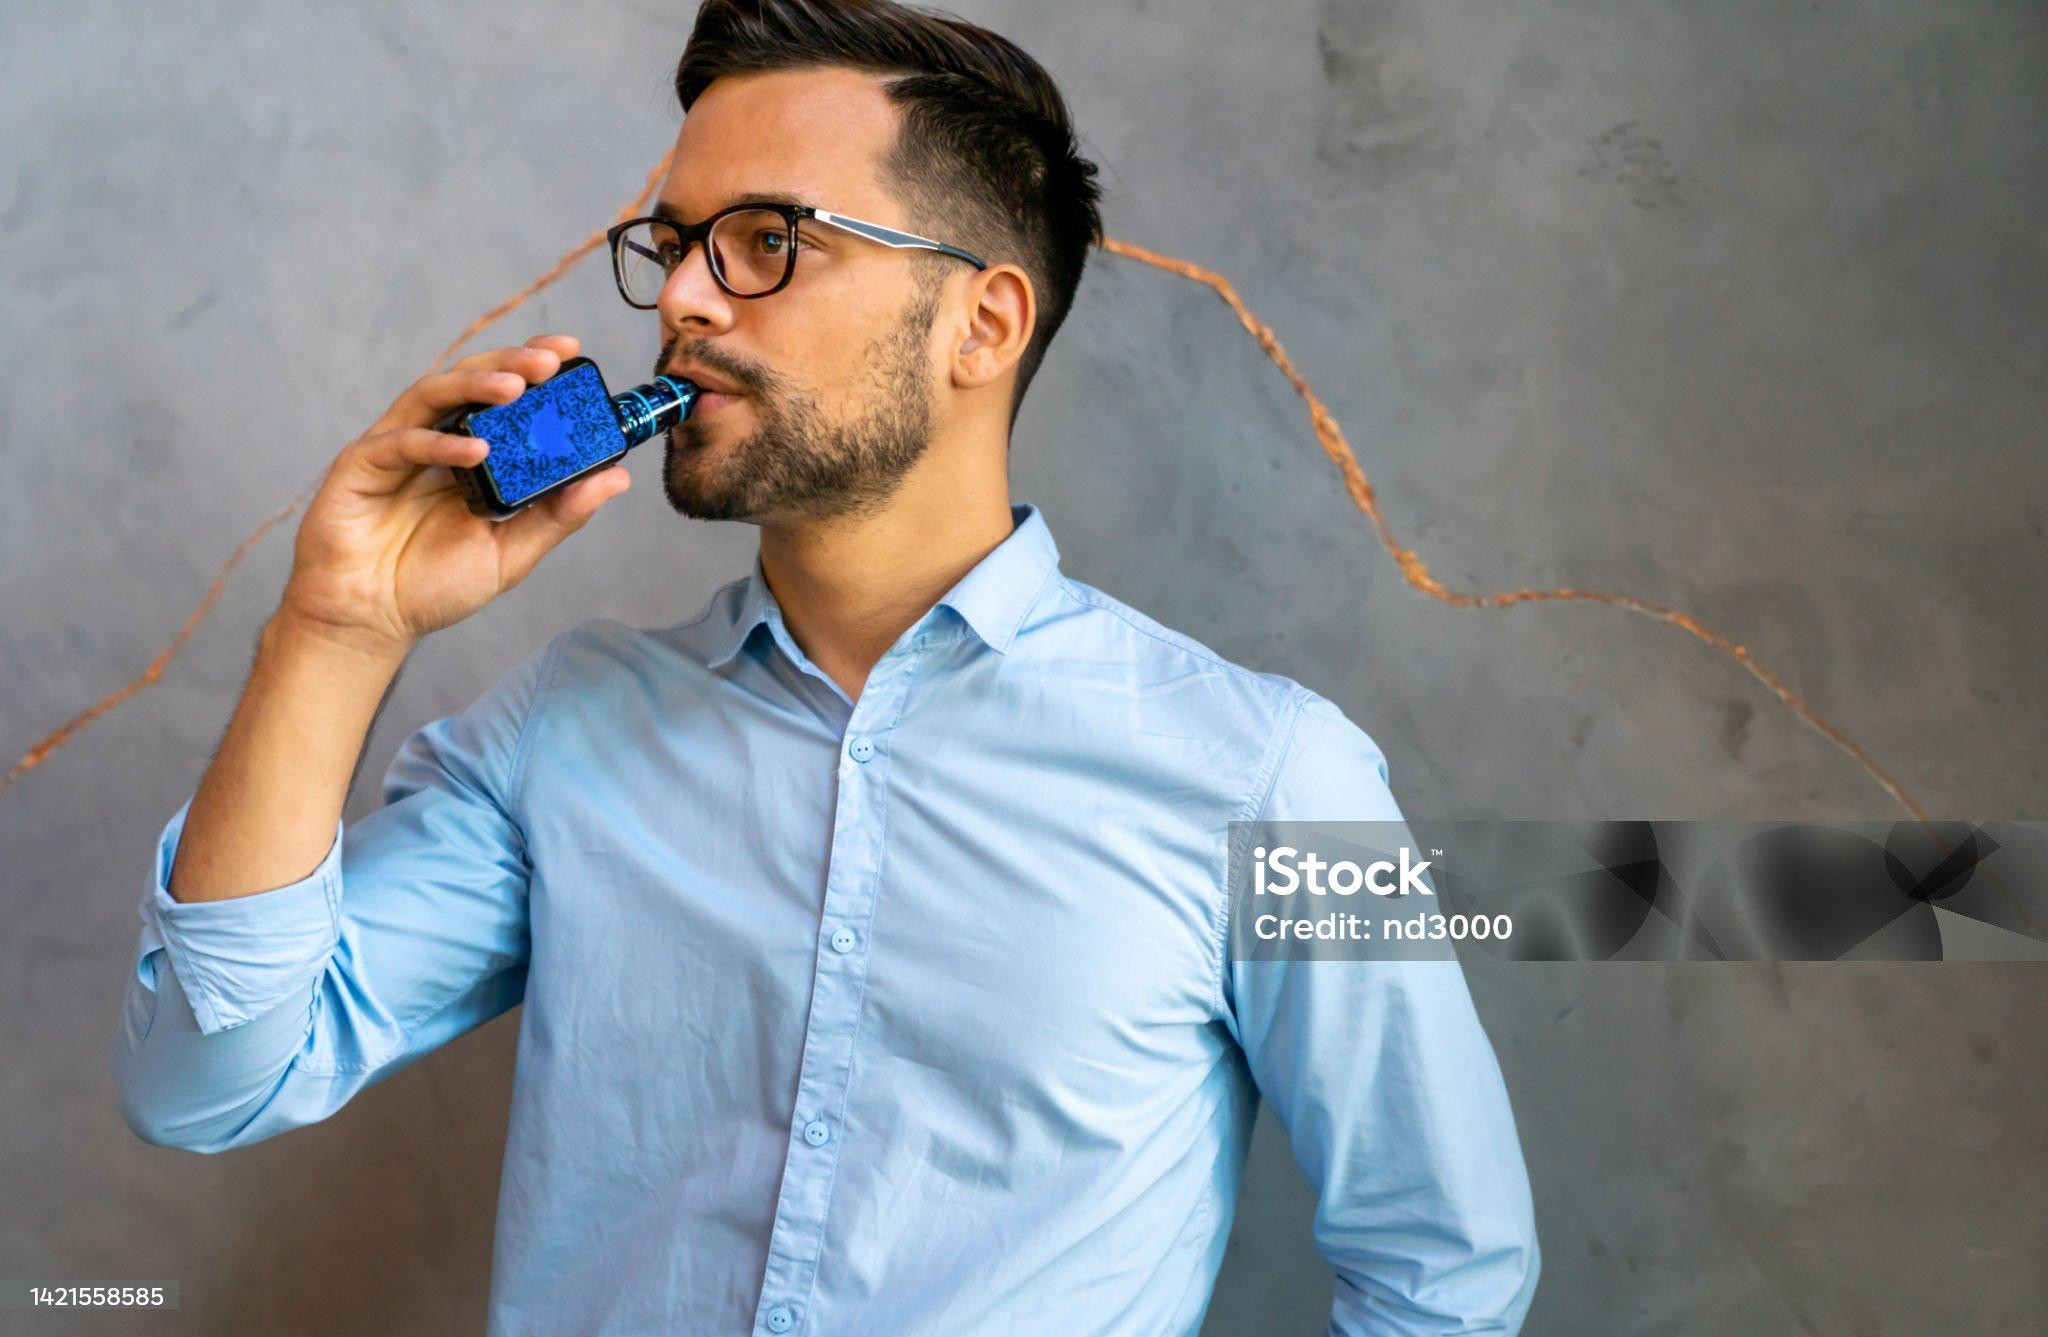Vape: (436, 357, 699, 519)
